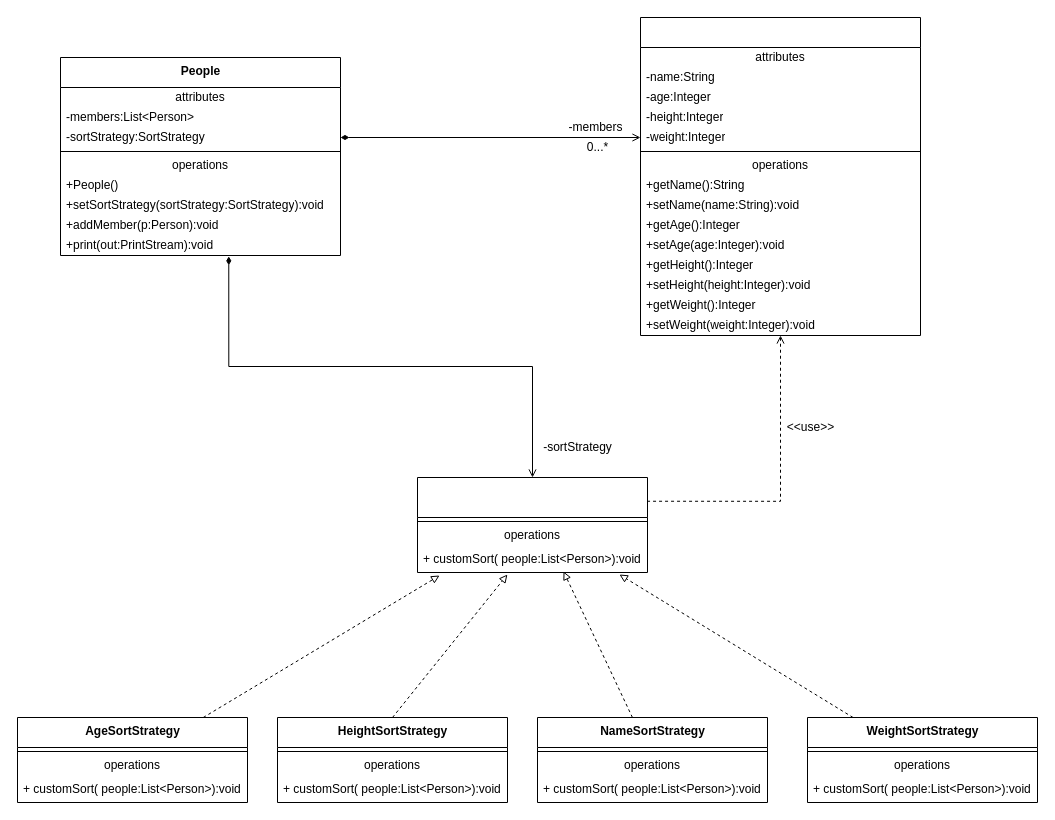
Image size: 1055x820. Some labels were removed from this diagram. Each missing label, with the box of its shape:
<<interface>> SortStrategy: (416, 476, 648, 572)
Person: (640, 16, 920, 336)
